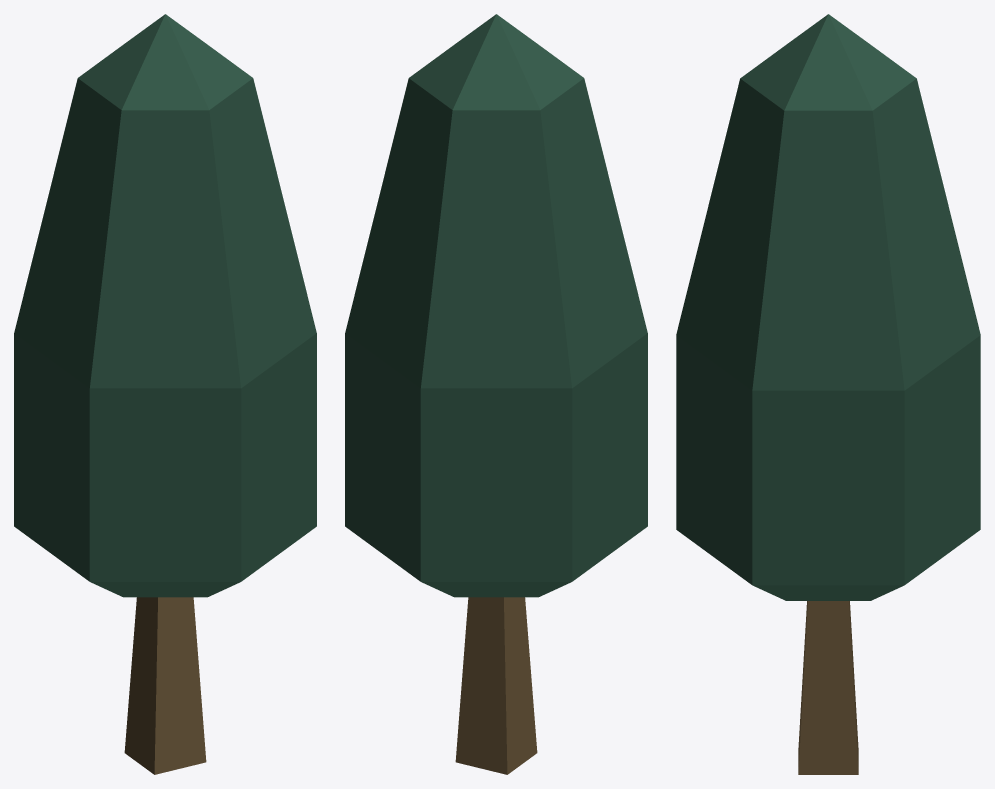
File: Oak_Green_01.obj
3 renders of one model, left to right at view 1: azimuth 30°, elevation 25°; view 2: azimuth 150°, elevation 25°; view 3: azimuth 270°, elevation 25°, orthographic.
Visible parts, largest first — view 1: Mesh1_Oak_Green_Model; view 2: Mesh1_Oak_Green_Model; view 3: Mesh1_Oak_Green_Model.
Part boxes in pixels (x1,y1,x2,y2): Mesh1_Oak_Green_Model: [14, 14, 316, 774]; Mesh1_Oak_Green_Model: [345, 14, 647, 774]; Mesh1_Oak_Green_Model: [676, 14, 980, 774].
Size of the model in its own units: 1.58 by 4.93 by 1.82.
